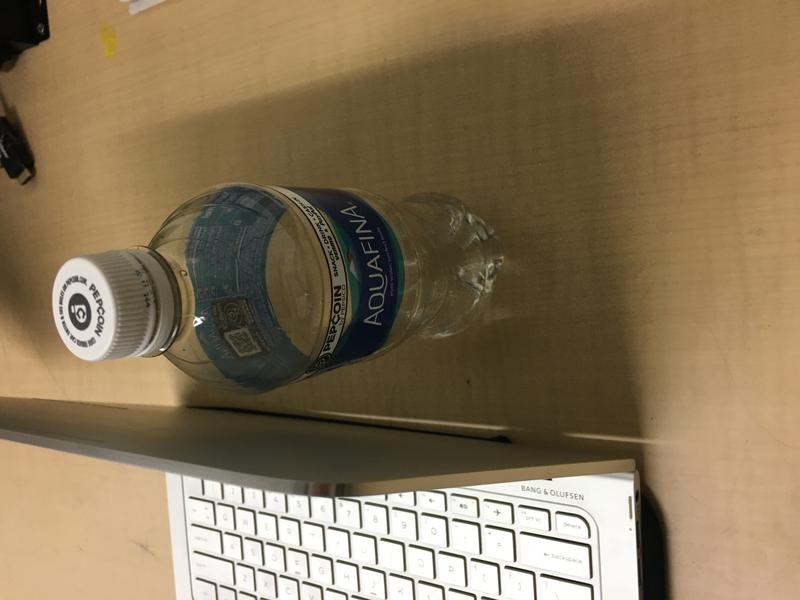bottle: (52, 183, 509, 397)
